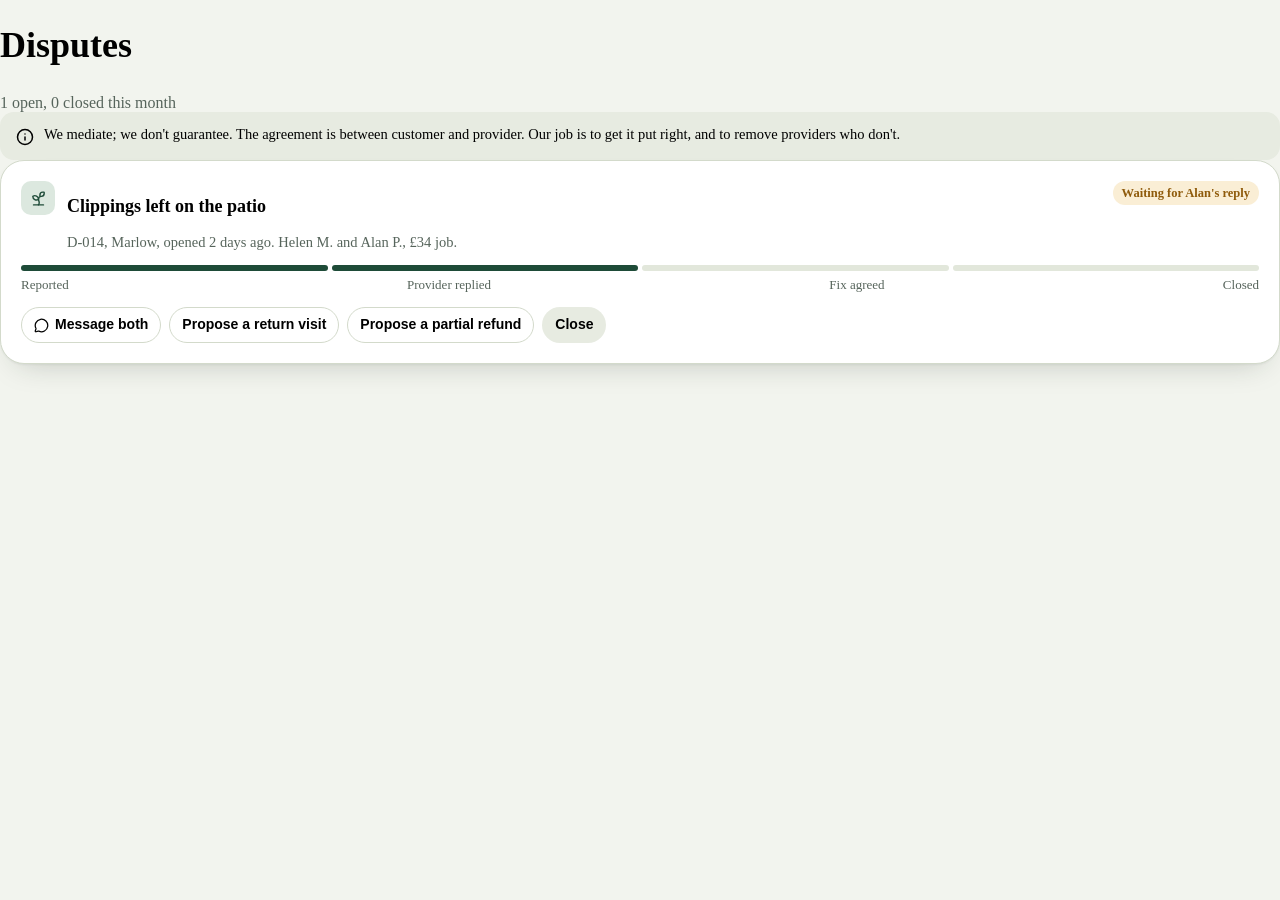
disputes › messages both parties
The width and height of the screenshot is (1280, 900).
Step 1. Click the button "Message both" → coordinates (91, 325), box x1=21 y1=307 x2=161 y2=343
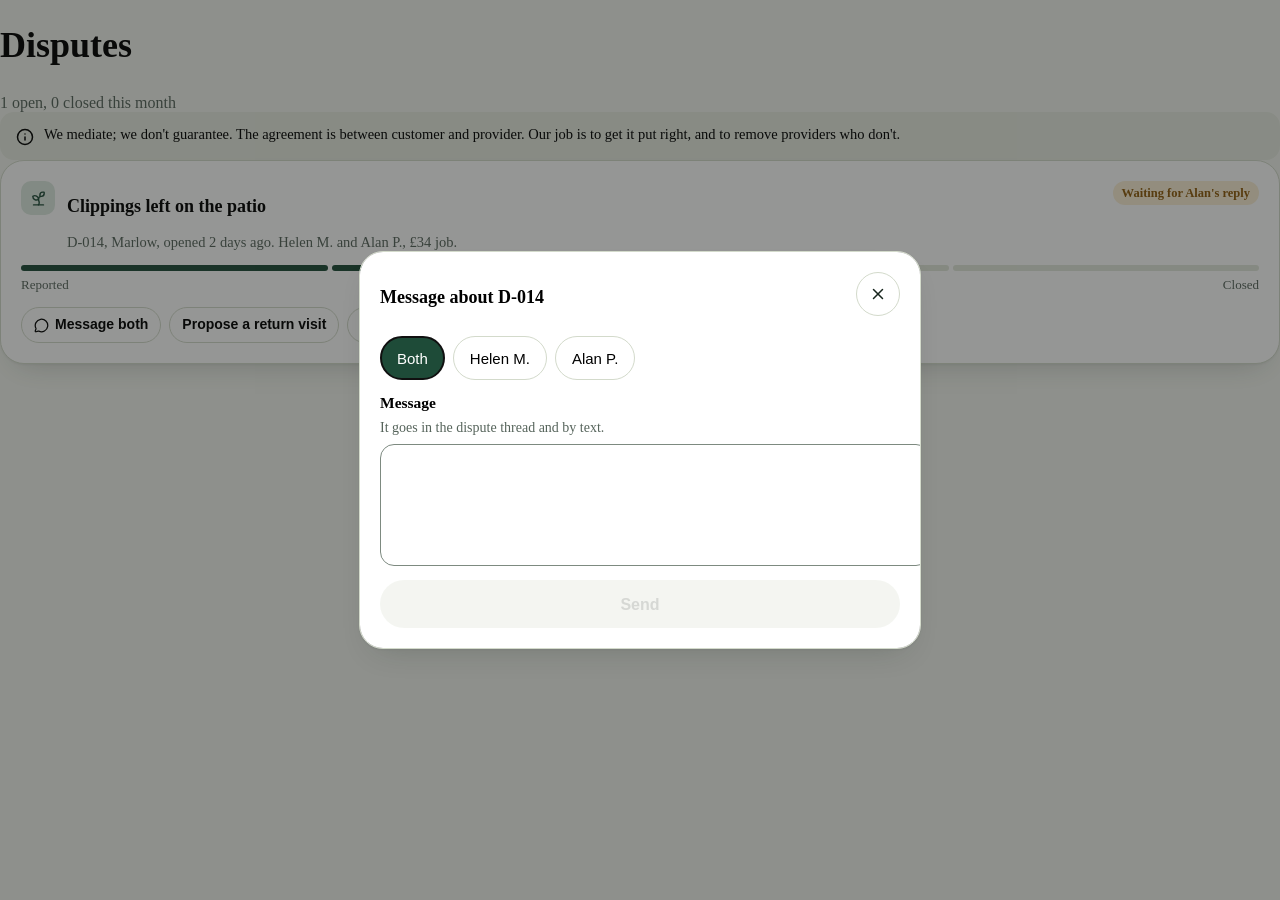
Step 2. Type "Alan, can you sweep up on Friday?" into the text box labelled "Message" → coordinates (655, 505), box x1=380 y1=444 x2=930 y2=566
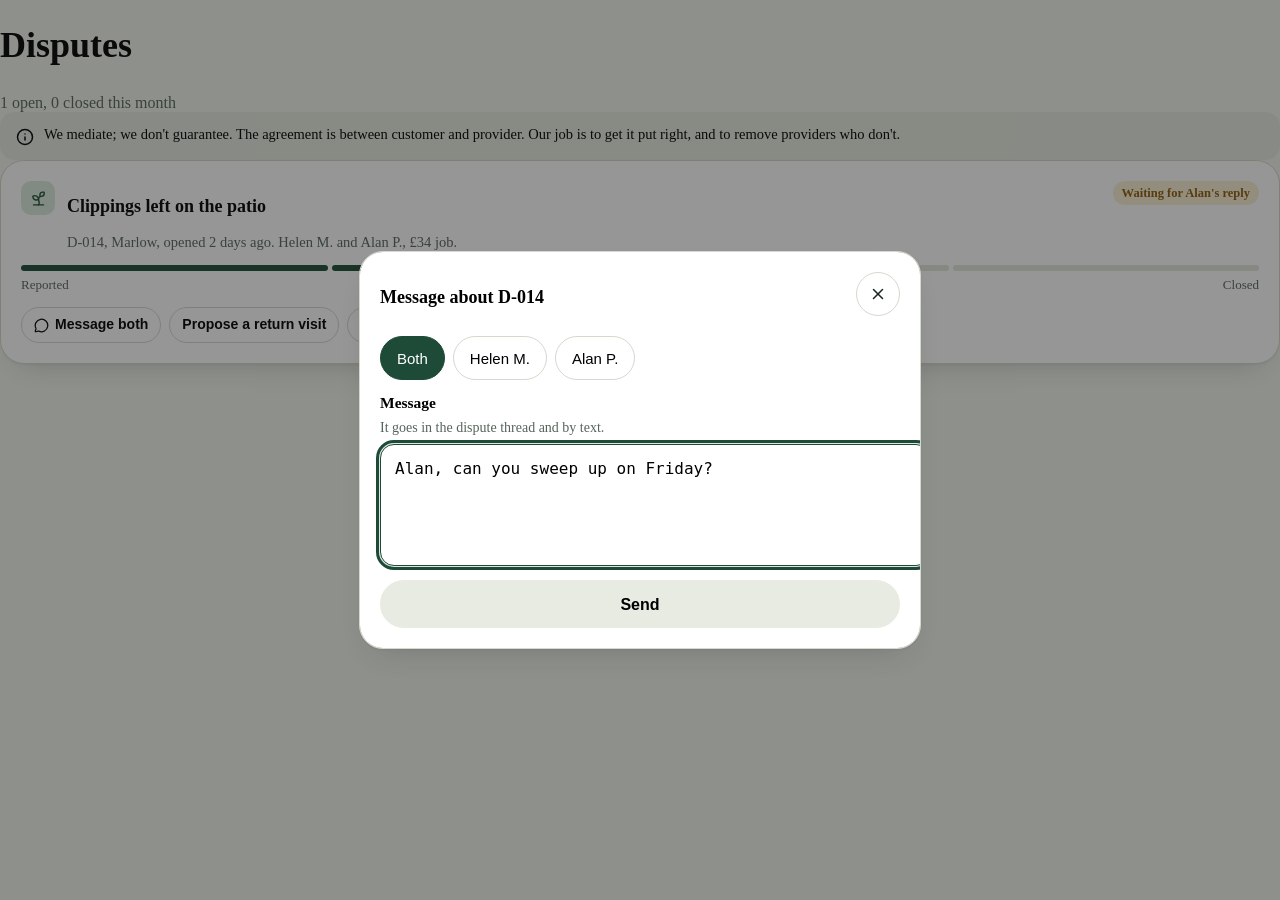
Step 3. Click the button "Send" → coordinates (640, 604), box x1=380 y1=580 x2=900 y2=628
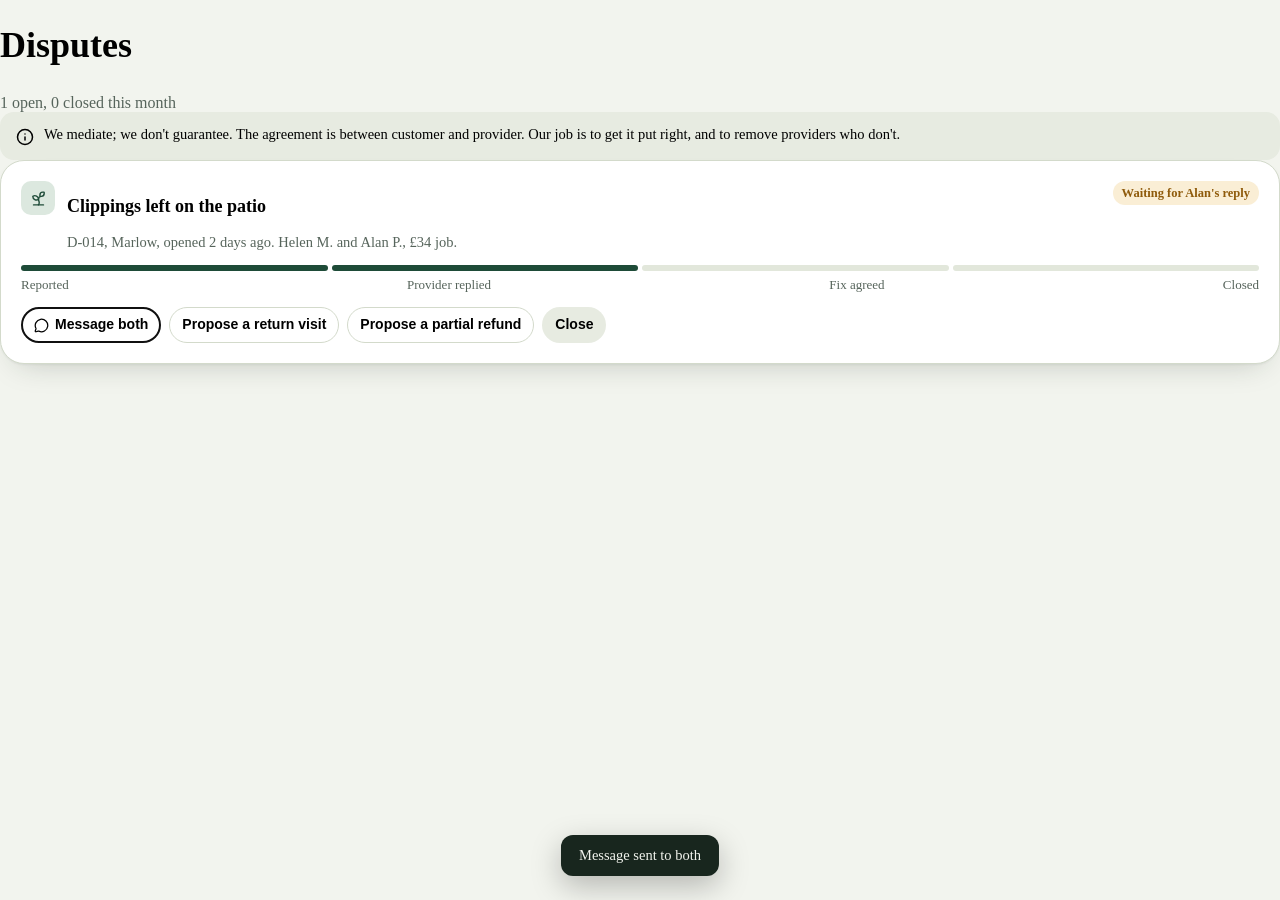
Expected: the text "Message sent to both" is shown, x1=561 y1=835 x2=719 y2=876
